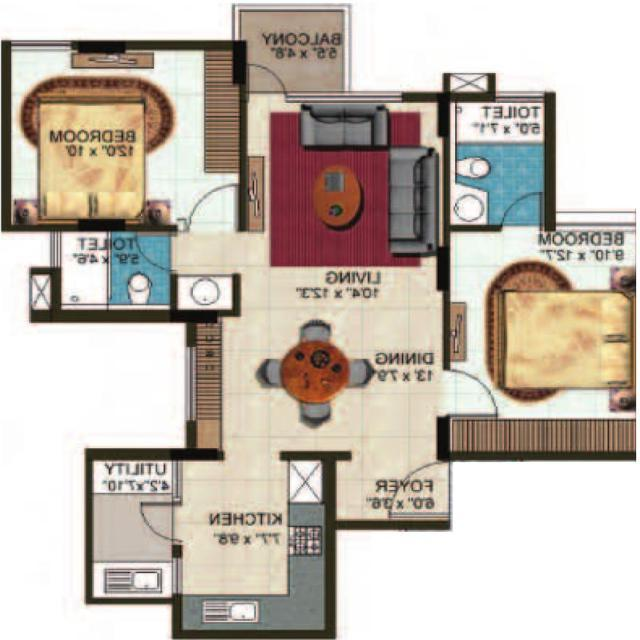Balcony-Sitout: (241, 7, 348, 96)
Bedroom: (446, 223, 639, 462), (6, 44, 241, 226)
Dining: (253, 317, 377, 428)
Enterance-Foyer: (333, 456, 452, 529)
Kitchen: (92, 452, 333, 636)
Living: (240, 97, 446, 286)
Toilet: (55, 228, 234, 317), (450, 97, 548, 220)
